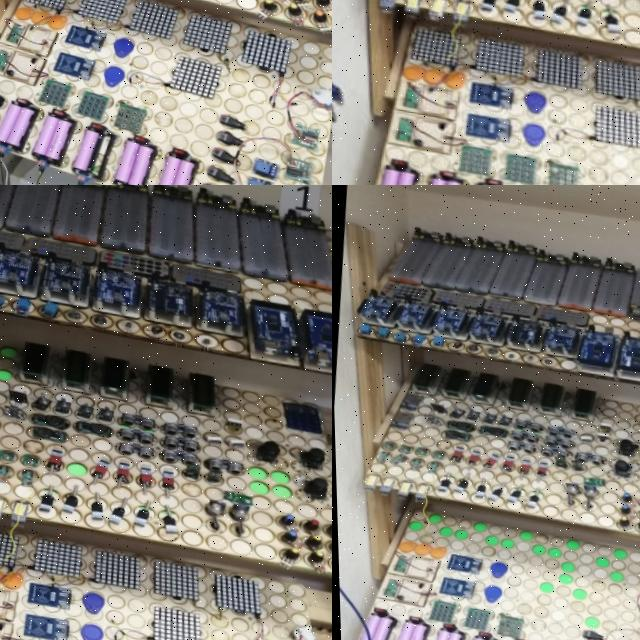Green-circles: (403, 507, 527, 551), (587, 535, 632, 579), (241, 454, 294, 489), (524, 535, 563, 555), (564, 578, 590, 597), (555, 553, 573, 579), (63, 454, 87, 473), (0, 335, 14, 367), (578, 604, 598, 626), (559, 533, 582, 549), (535, 572, 551, 593), (0, 362, 11, 377)
